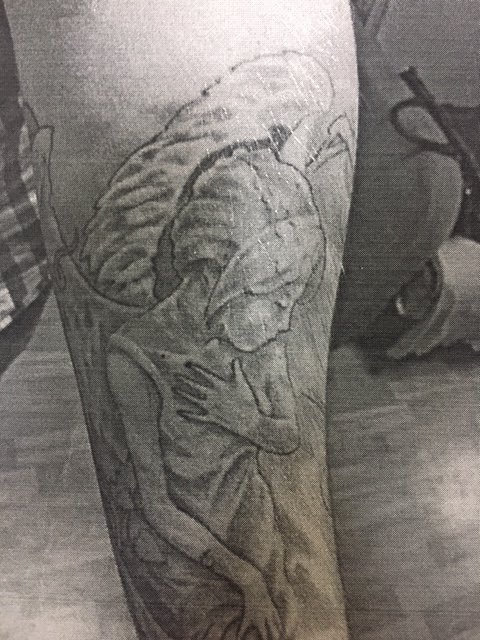tatu1_angel: (23, 47, 337, 640)
